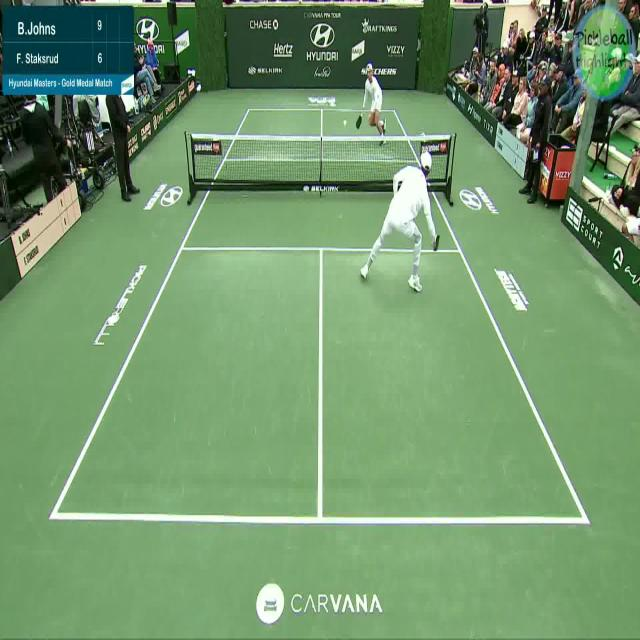ball: (338, 112, 350, 134)
